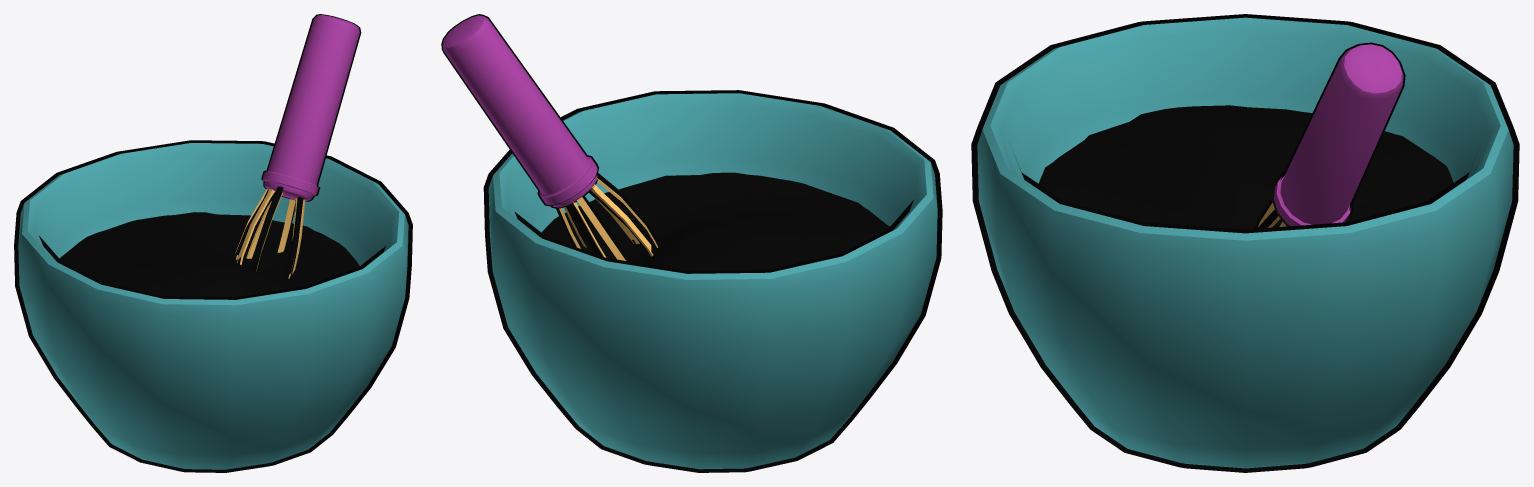
File: Cup of dough.fbx
3 views of the same model, side by side, from view 1: azimuth 30°, elevation 25°; view 2: azimuth 150°, elevation 25°; view 3: azimuth 270°, elevation 25° (orthographic). The views are drawn at different scales.
Visible parts, largest first — view 1: cup, dough, whisk; view 2: cup, dough, whisk; view 3: cup, dough, whisk.
Boxes of the visible parts, x1,y1,x2,y2 form: cup: (14, 140, 412, 472); dough: (59, 212, 359, 296); whisk: (234, 14, 361, 278); cup: (483, 90, 942, 472); dough: (541, 172, 889, 270); whisk: (441, 14, 660, 260); cup: (971, 14, 1519, 472); dough: (1038, 105, 1453, 229); whisk: (1255, 42, 1405, 228).
Bounding box in the file's own units: 275 × 255 × 262.
